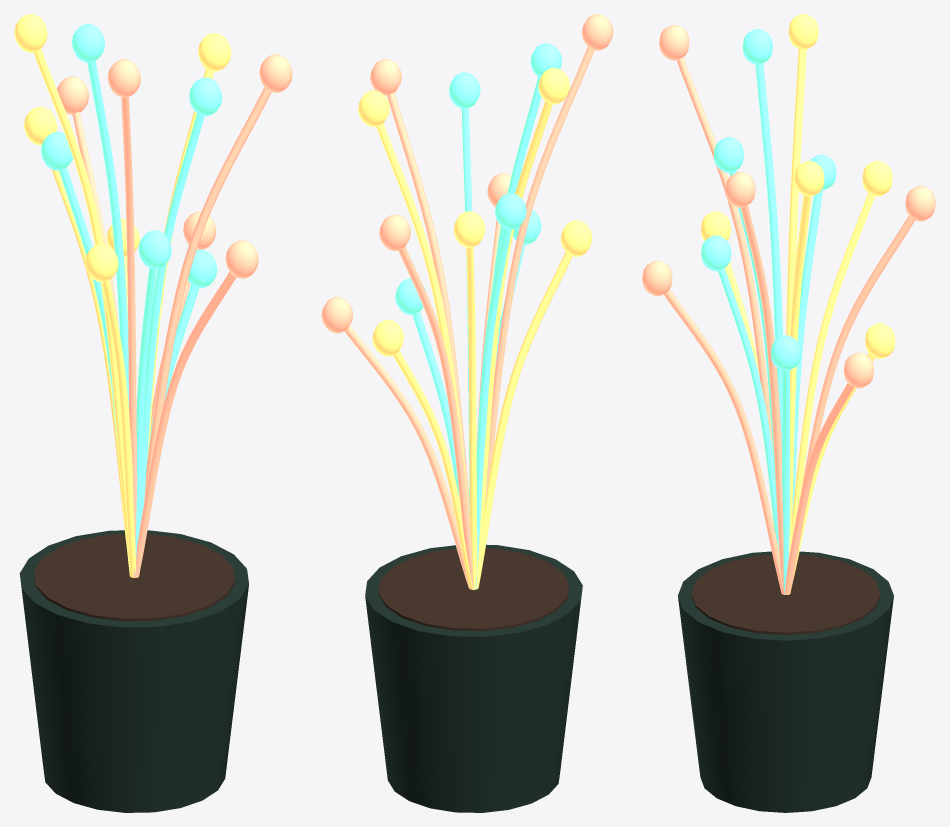
The model's file is fiber-optic-tree.glb.
The picture shows the model from 3 angles, left to right: view 1: azimuth 30°, elevation 25°; view 2: azimuth 150°, elevation 25°; view 3: azimuth 270°, elevation 25°; orthographic projection. The views are drawn at different scales.
Parts seen in each view (by area): view 1: fiber_optic_tree; view 2: fiber_optic_tree; view 3: fiber_optic_tree.
Part boxes in pixels (bbox=[...]): fiber_optic_tree: bbox=[14, 14, 292, 812]; fiber_optic_tree: bbox=[321, 14, 613, 812]; fiber_optic_tree: bbox=[642, 14, 935, 812].
Bounding box in the file's own units: 2.12 × 6.54 × 2.41.
